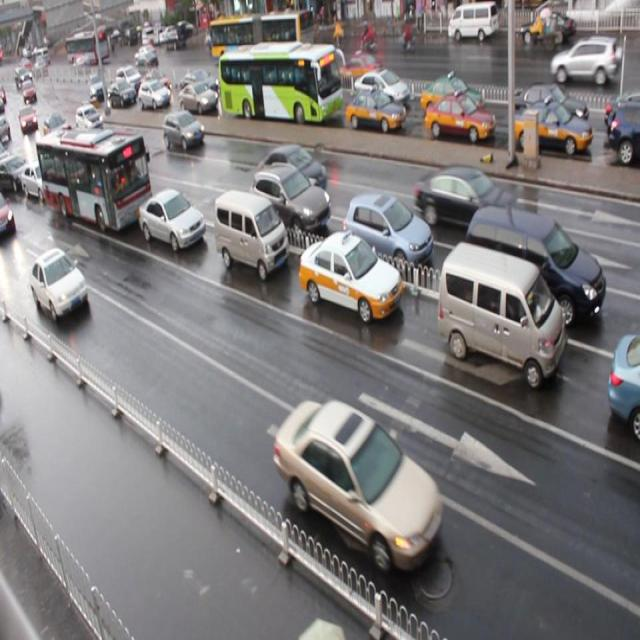car: (273, 396, 444, 571), (299, 228, 402, 322), (416, 162, 518, 238), (343, 194, 433, 278), (252, 163, 331, 234), (513, 99, 593, 158), (29, 247, 89, 322), (138, 187, 206, 252), (261, 144, 329, 202), (425, 91, 496, 142), (608, 331, 640, 436), (507, 84, 581, 128), (421, 76, 487, 120), (345, 86, 405, 133), (352, 68, 407, 109), (608, 98, 640, 160), (598, 92, 640, 136), (21, 158, 60, 203), (163, 111, 206, 151), (179, 83, 219, 115), (240, 69, 276, 103), (1, 153, 32, 192), (185, 69, 222, 97), (140, 80, 172, 112), (53, 130, 83, 163), (76, 104, 105, 135), (117, 65, 144, 94), (110, 81, 136, 109), (142, 68, 168, 94), (45, 114, 70, 138)
truck: (437, 240, 565, 388), (466, 200, 606, 331), (212, 187, 288, 280)
van: (36, 126, 154, 235), (216, 42, 340, 124)
